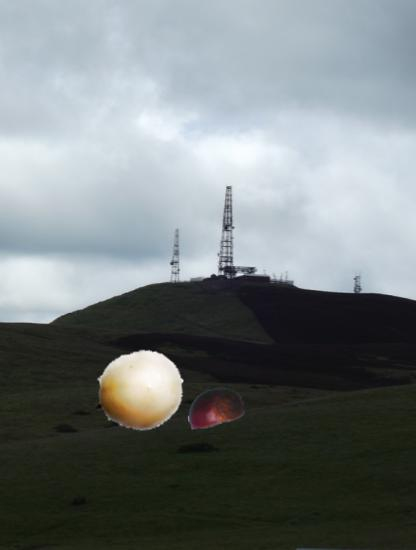Chestnut: (187, 379, 245, 437)
Pepino: (94, 345, 185, 436)
